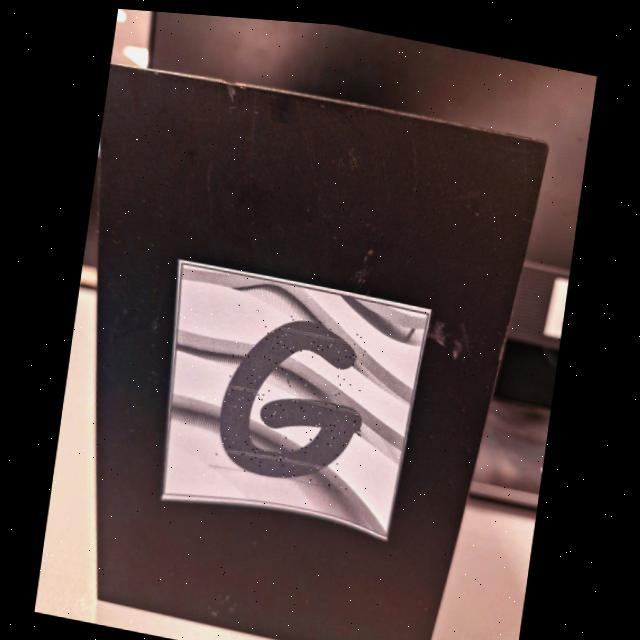G: (220, 315, 362, 474)
